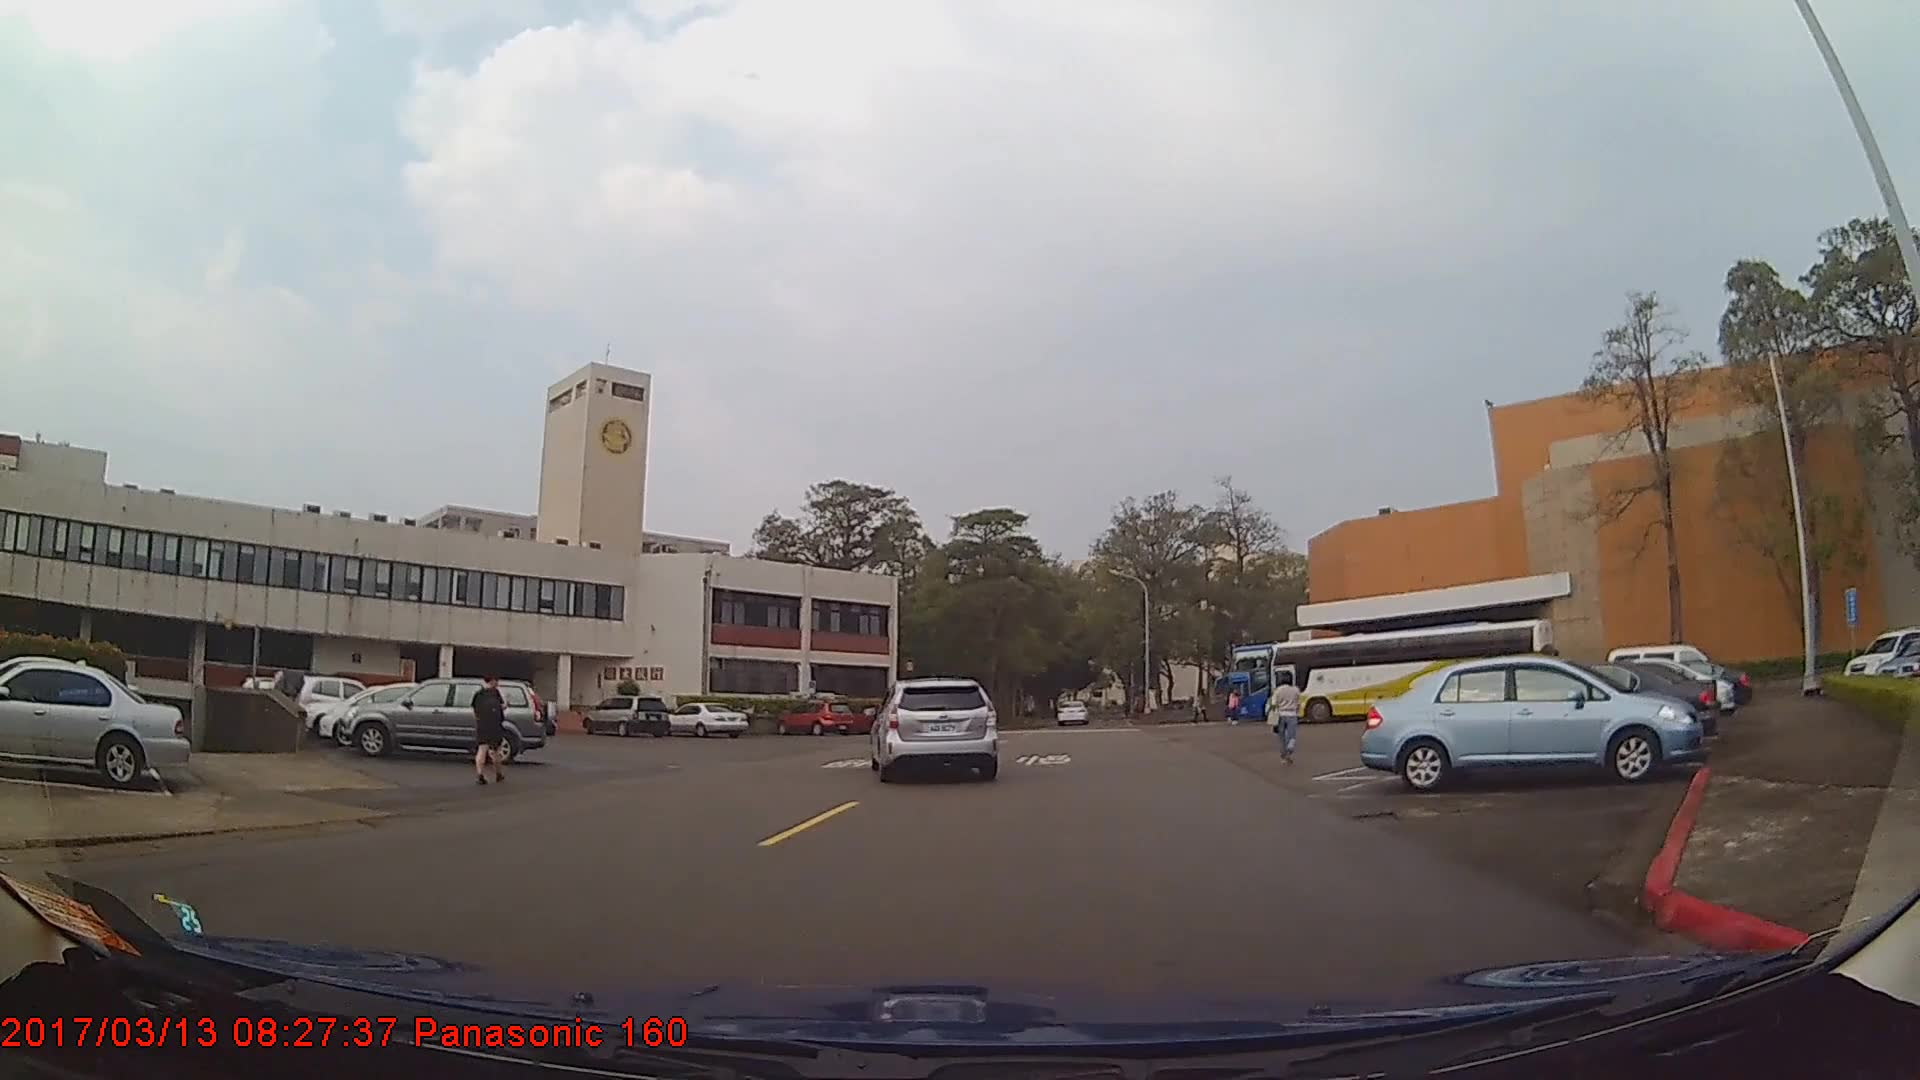pedestrian: (471, 675, 513, 792), (1268, 675, 1303, 768)
vehicle: (1358, 649, 1702, 790), (1270, 616, 1554, 724), (1431, 663, 1717, 761), (0, 655, 194, 795), (1228, 641, 1460, 735), (341, 672, 559, 764), (872, 676, 997, 783), (319, 687, 484, 756), (296, 675, 390, 729), (582, 693, 671, 740), (774, 697, 857, 738), (662, 699, 748, 739), (1059, 709, 1094, 742)
